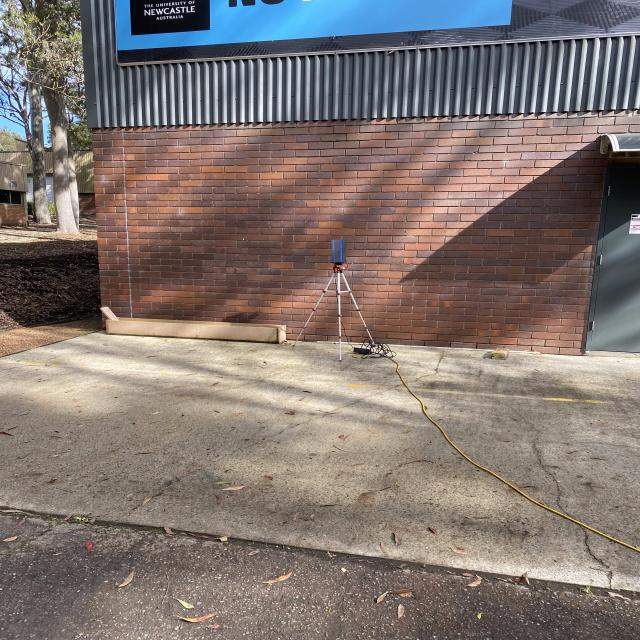matrix: (329, 236, 351, 266)
